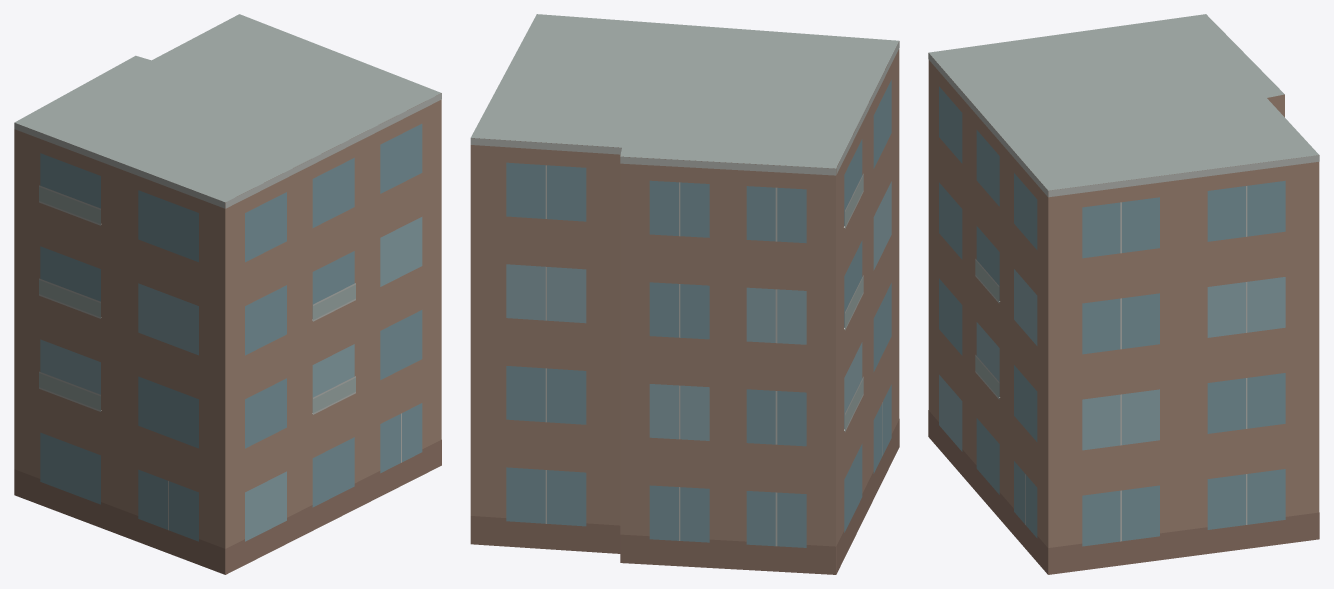
The model's file is survey-upis-32858249.glb.
3 renders of one model, left to right at view 1: azimuth 30°, elevation 25°; view 2: azimuth 150°, elevation 25°; view 3: azimuth 270°, elevation 25°, orthographic. The views are drawn at different scales.
Visible parts, largest first — view 1: survey-upis-32858249.tmp; view 2: survey-upis-32858249.tmp; view 3: survey-upis-32858249.tmp.
Boxes of the visible parts, bbox=[...] form: survey-upis-32858249.tmp: bbox=[14, 14, 441, 574]; survey-upis-32858249.tmp: bbox=[470, 14, 899, 574]; survey-upis-32858249.tmp: bbox=[928, 14, 1319, 574].
Size of the model in its own units: 13.86 by 14.05 by 12.97.
